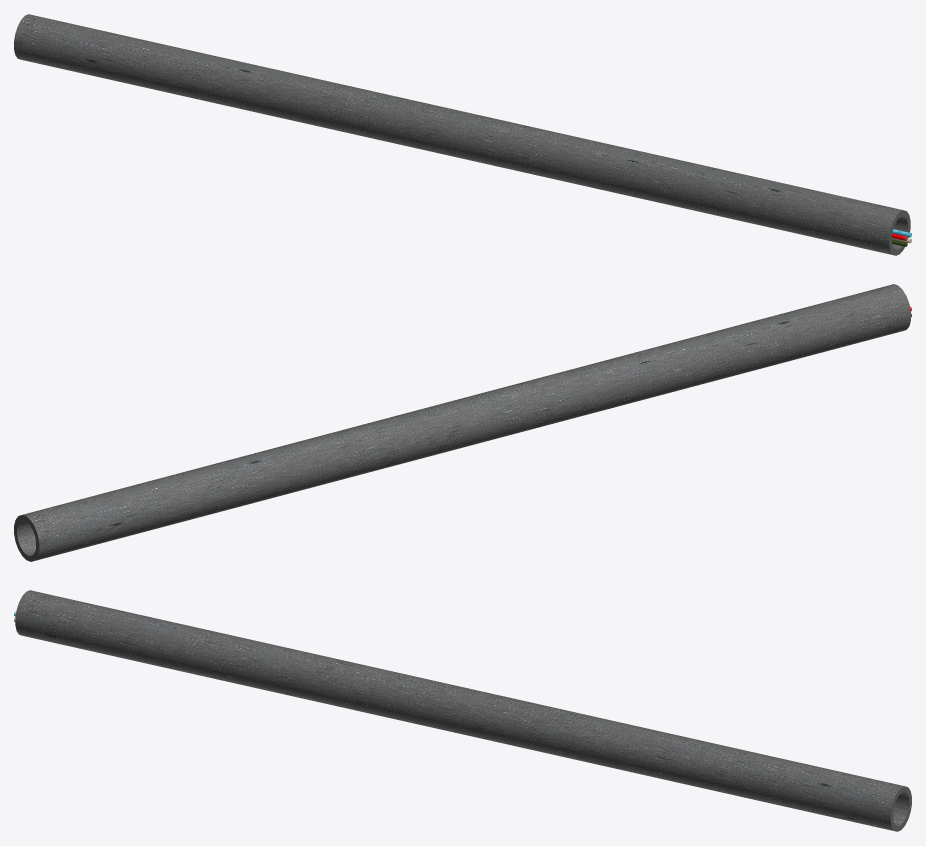
File: xianguan.gltf
The picture shows the model from 3 angles, top to bottom: view 1: azimuth 90°, elevation 25°; view 2: azimuth 150°, elevation 25°; view 3: azimuth 270°, elevation 25°; orthographic projection. The views are drawn at different scales.
Parts seen in each view (by area): view 1: Tube004; view 2: Tube004; view 3: Tube004.
Boxes of the visible parts, x1=… form: Tube004: x1=14, y1=14, x2=910, y2=255; Tube004: x1=14, y1=284, x2=910, y2=561; Tube004: x1=15, y1=590, x2=911, y2=831.
Bounding box in the file's own units: 433 × 40 × 771.
Materials: 5 (5 with a texture image).
